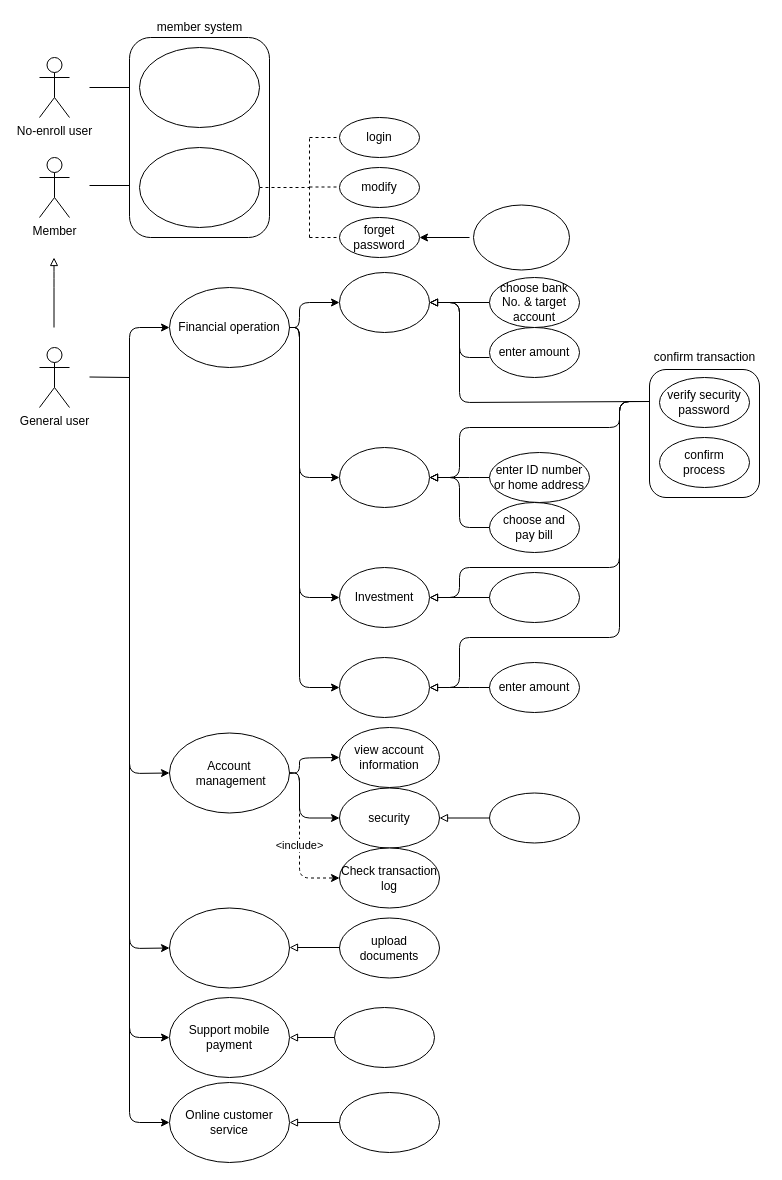
The diagram is 782 pixels wide and 1180 high, and some of its shapes have lost their labels. The shapes that lost their labels are listed below. From the top down, each one's box as (x1, y1, x2, y2) in pixels, then its label:
(138, 46, 260, 128): Register
(138, 146, 260, 228): Member action
(472, 204, 570, 270): mail verify code and reset password
(338, 272, 430, 332): Money Transference
(338, 446, 430, 508): Bill payment
(488, 572, 580, 622): choose investment project
(338, 656, 430, 718): Loan
(488, 792, 580, 843): enter new password
(168, 907, 290, 988): Credit card application
(334, 1006, 434, 1068): External mobile payment device
(338, 1092, 440, 1152): external voice channel
